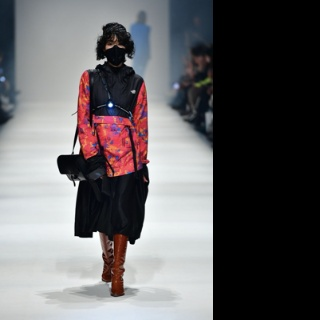with_mask: (105, 37, 127, 64)
